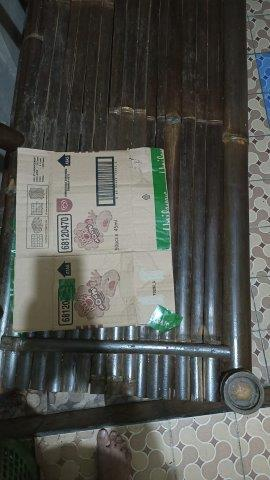kardus: (13, 147, 175, 330)
